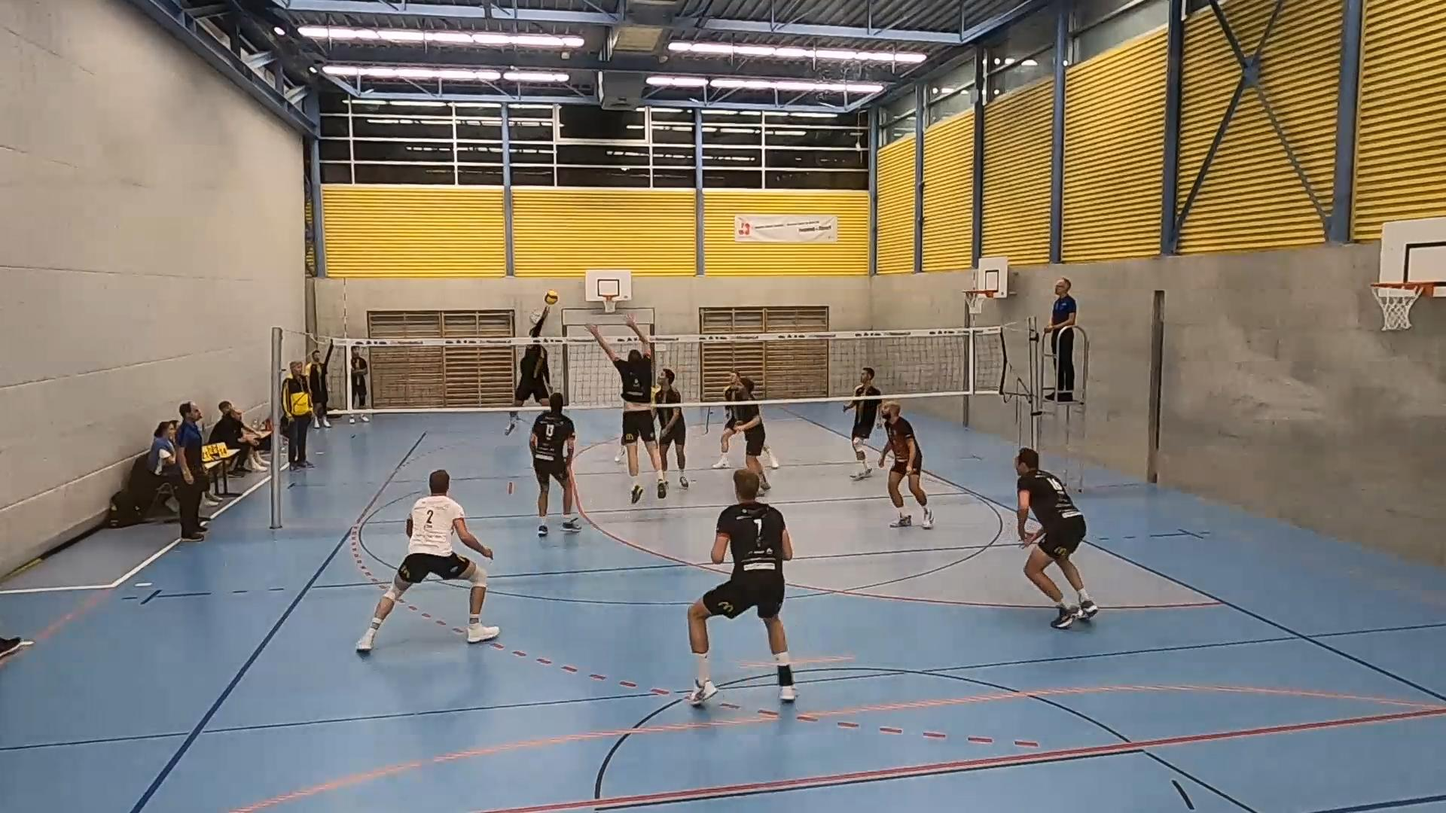attacco: (498, 275, 562, 434)
muro: (580, 314, 668, 505)
